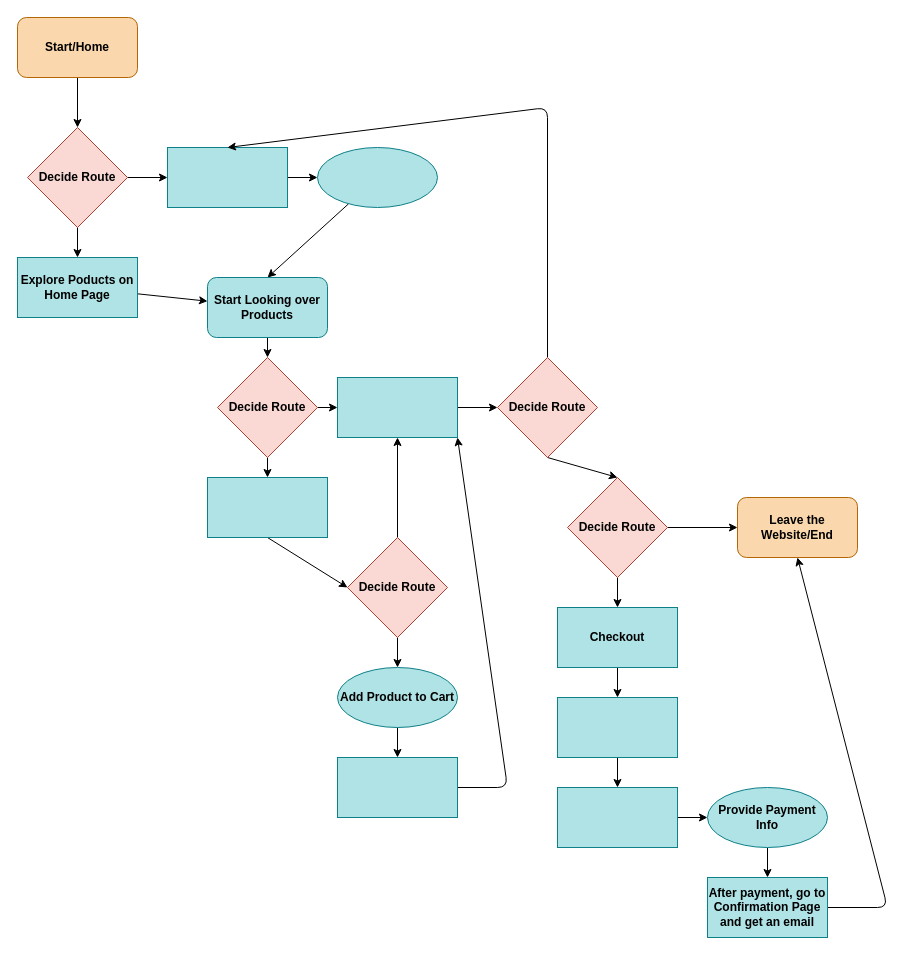
The diagram is 913 pixels wide and 955 high, and some of its shapes have lost their labels. Here are the shapes that lost their labels. From the top down, the centre of each, then its label:
At (227,177): "Search for Product".
At (377,177): "Provide Input".
At (397,407): "Keep Exploring Products/Continue Shopping".
At (267,507): "View Specific Product Page".
At (617,727): "View Cart Page".
At (397,787): "Added to Cart Confirmation Page".
At (617,817): "View Payment Page".
